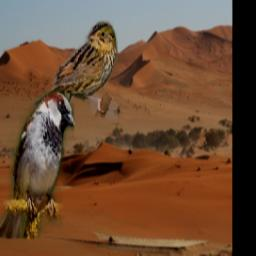Sparrow: (0, 90, 75, 239), (31, 22, 118, 120)
